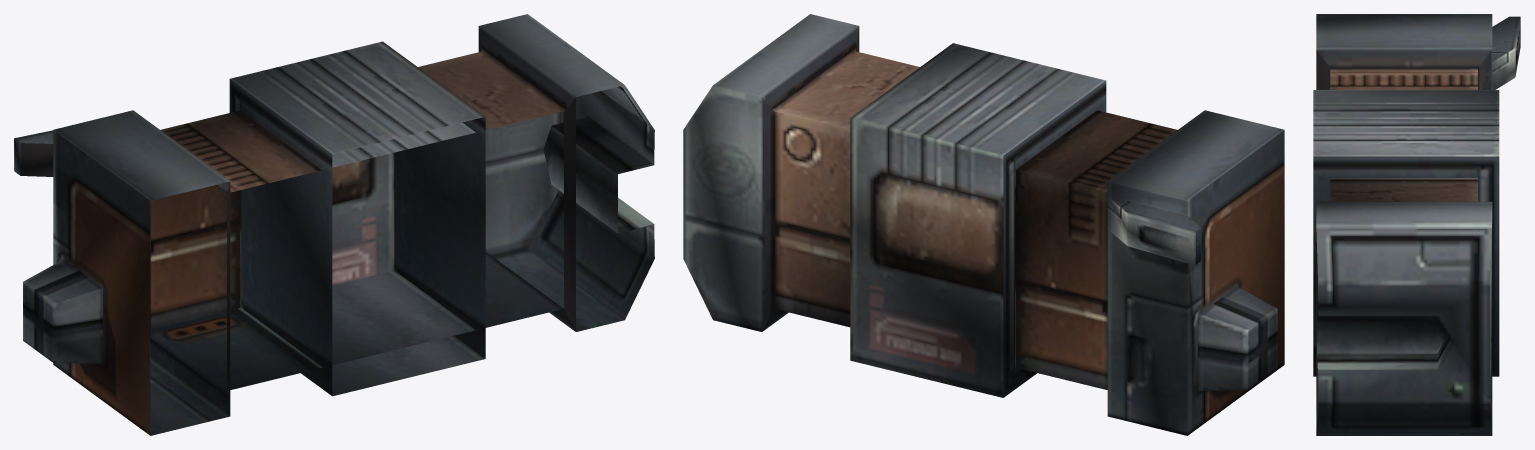
File: resistance.glb
The picture shows the model from 3 angles, left to right: view 1: azimuth 30°, elevation 25°; view 2: azimuth 150°, elevation 25°; view 3: azimuth 270°, elevation 25°; orthographic projection. The views are drawn at different scales.
Parts seen in each view (by area): view 1: Box02; view 2: Box02; view 3: Box02.
Part boxes in pixels (x1,y1,x2,y2): Box02: (14, 14, 654, 435); Box02: (683, 14, 1284, 435); Box02: (1313, 14, 1520, 435).
Size of the model in its own units: 9.8 by 4.12 by 3.54.
1 material, 1 textured.
